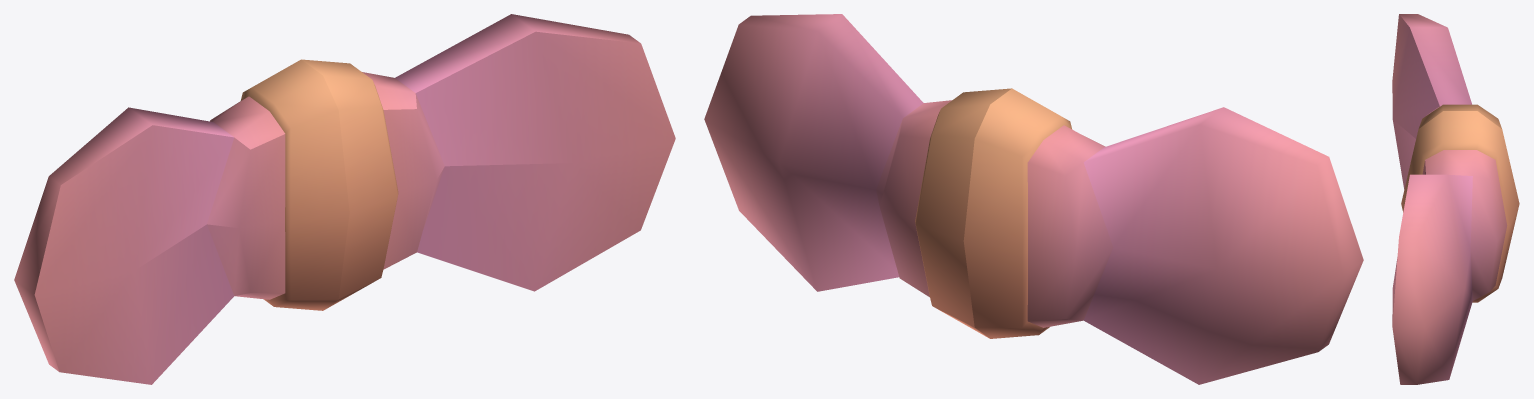
Rendered from ButterflyBow_Prop.fbx.
3 renders of one model, left to right at view 1: azimuth 30°, elevation 25°; view 2: azimuth 150°, elevation 25°; view 3: azimuth 270°, elevation 25°, orthographic. The views are drawn at different scales.
Visible parts, largest first — view 1: Cube; view 2: Cube; view 3: Cube.
Part boxes in pixels (box(x1,y1,x2,y2)): Cube: box(14, 14, 675, 384); Cube: box(704, 14, 1363, 384); Cube: box(1392, 14, 1519, 384).
Bounding box in the file's own units: 39.47 × 15.32 × 8.61.
